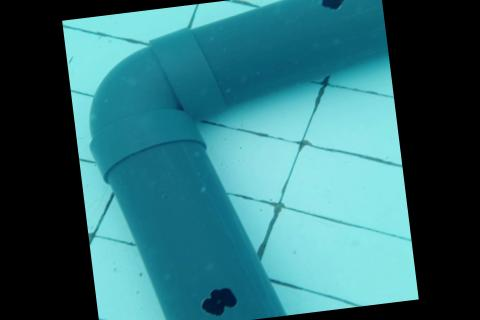kebocoran: (197, 282, 240, 318), (317, 0, 346, 10)
